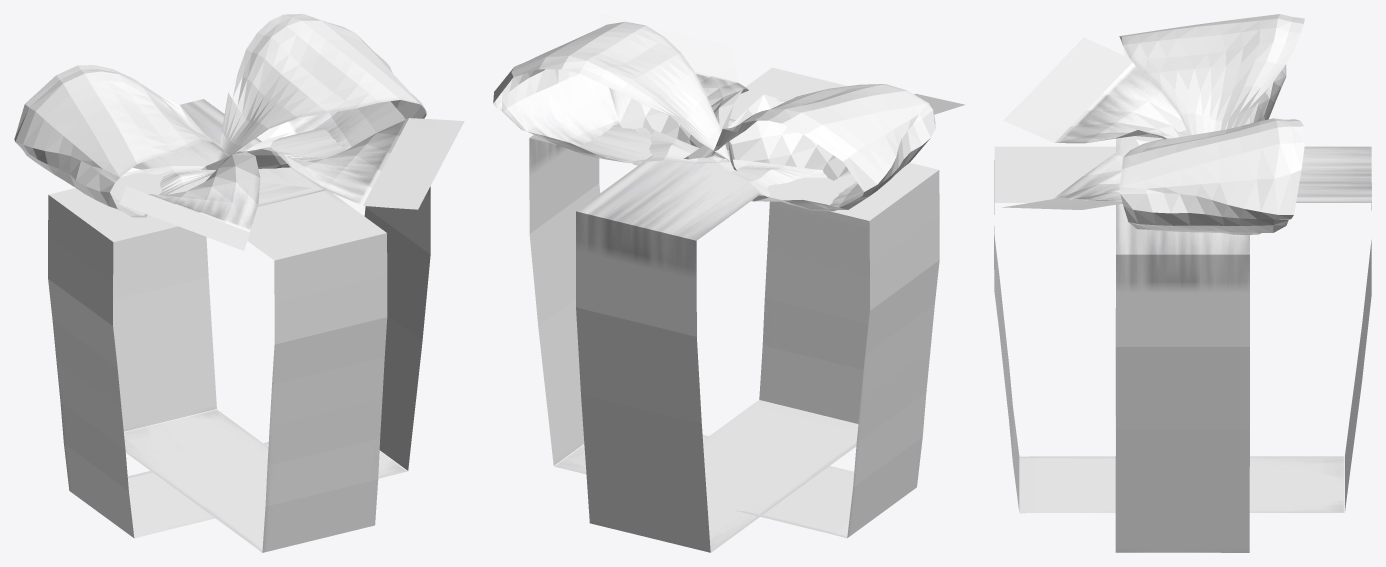
File: 0437_sidai_xinshiniao.glb
3 renders of one model, left to right at view 1: azimuth 30°, elevation 25°; view 2: azimuth 150°, elevation 25°; view 3: azimuth 270°, elevation 25°, orthographic. The views are drawn at different scales.
Bounding box in the file's own units: 2.05 × 2.2 × 1.83.
Materials: 1 (1 with a texture image).
